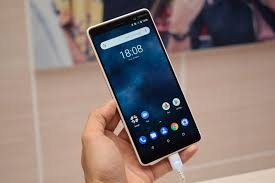nokia: (83, 5, 204, 168)
